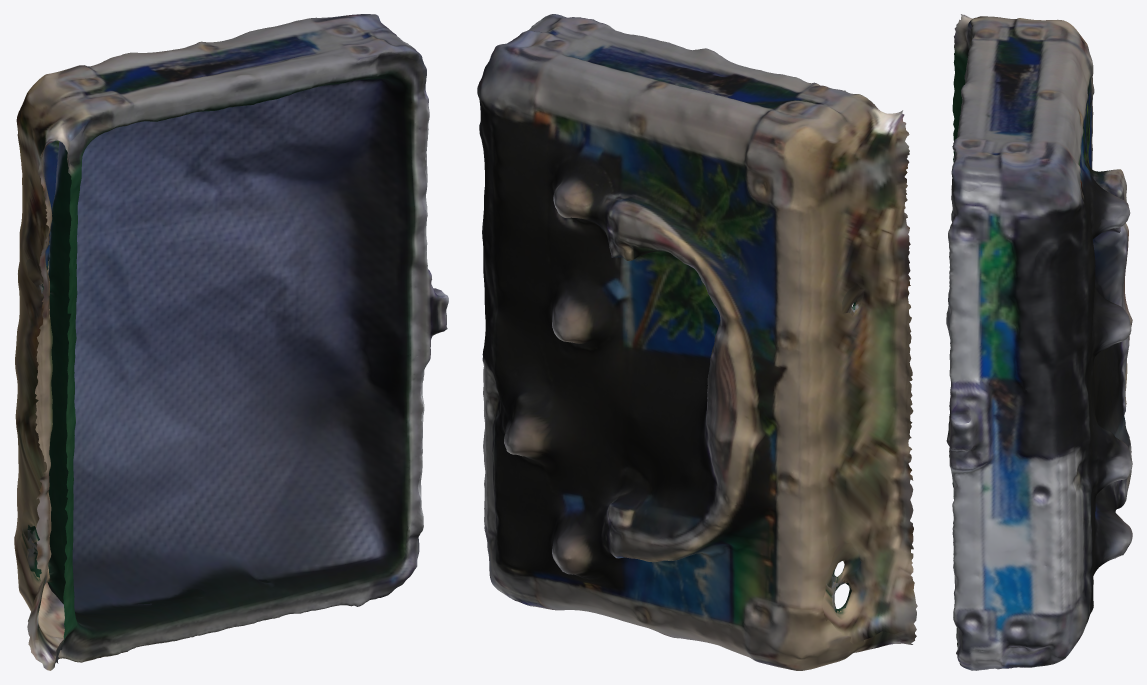
File: treasurebox_top.obj
3 renders of one model, left to right at view 1: azimuth 30°, elevation 25°; view 2: azimuth 150°, elevation 25°; view 3: azimuth 270°, elevation 25°, orthographic. The views are drawn at different scales.
Size of the model in its own units: 0.1418 by 0.1824 by 0.0594.
2 materials, 1 textured.
